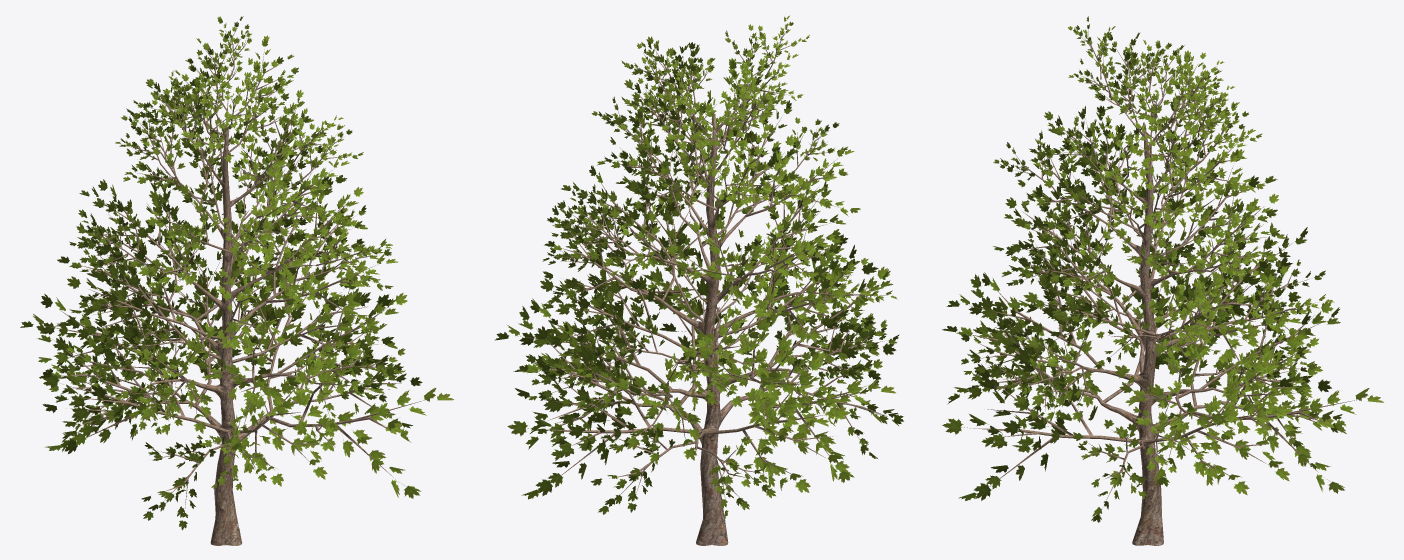
Rendered from oak2.obj.
The picture shows the model from 3 angles, left to right: view 1: azimuth 30°, elevation 25°; view 2: azimuth 150°, elevation 25°; view 3: azimuth 270°, elevation 25°; orthographic projection. The views are drawn at different scales.
Visible parts, largest first — view 1: leaf maple, bark02; view 2: leaf maple, bark02; view 3: leaf maple, bark02.
Part boxes in pixels (x1,y1,x2,y2): leaf maple: [20, 16, 453, 530]; bark02: [43, 27, 423, 545]; leaf maple: [495, 15, 903, 518]; bark02: [517, 28, 887, 545]; leaf maple: [942, 16, 1383, 522]; bark02: [966, 29, 1356, 545].
Size of the model in its own units: 650 by 860 by 704.
Materials: 2 (2 with a texture image).
